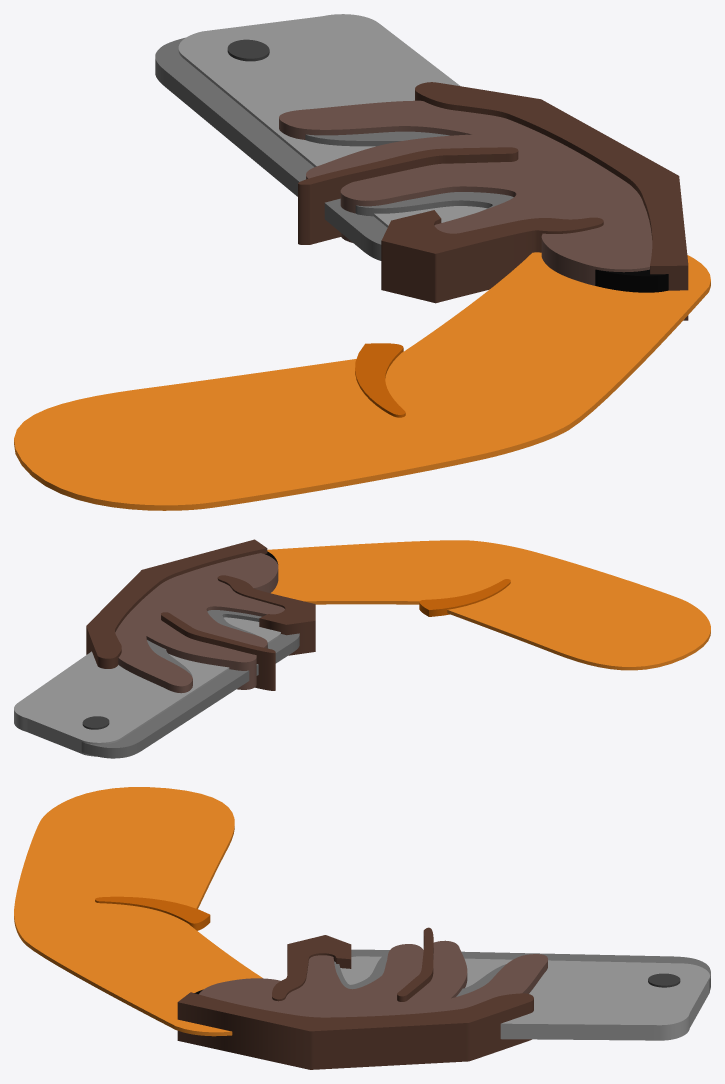
File: emoji_u1f933_1f3ff.glb
3 renders of one model, top to bottom at view 1: azimuth 30°, elevation 25°; view 2: azimuth 150°, elevation 25°; view 3: azimuth 270°, elevation 25°, orthographic. The views are drawn at different scales.
Visible parts, largest first — view 1: emoji_u1f933_1f3ff; view 2: emoji_u1f933_1f3ff; view 3: emoji_u1f933_1f3ff.
Boxes of the visible parts, left/top/right/bottom form: emoji_u1f933_1f3ff: left=14, top=14, right=710, bottom=510; emoji_u1f933_1f3ff: left=14, top=539, right=710, bottom=758; emoji_u1f933_1f3ff: left=14, top=787, right=710, bottom=1069.
Bounding box in the file's own units: 0.0291 × 0.0022 × 0.0327.
